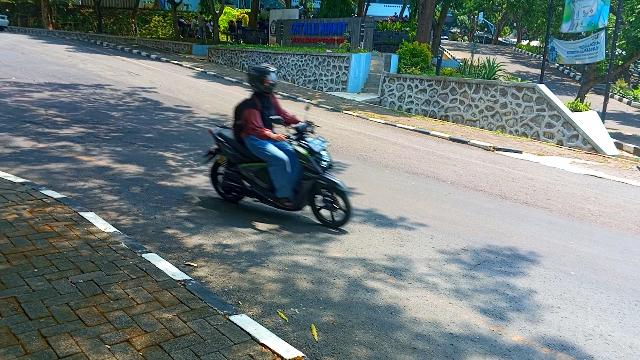helm: (250, 64, 279, 95)
motor: (205, 124, 351, 231)
